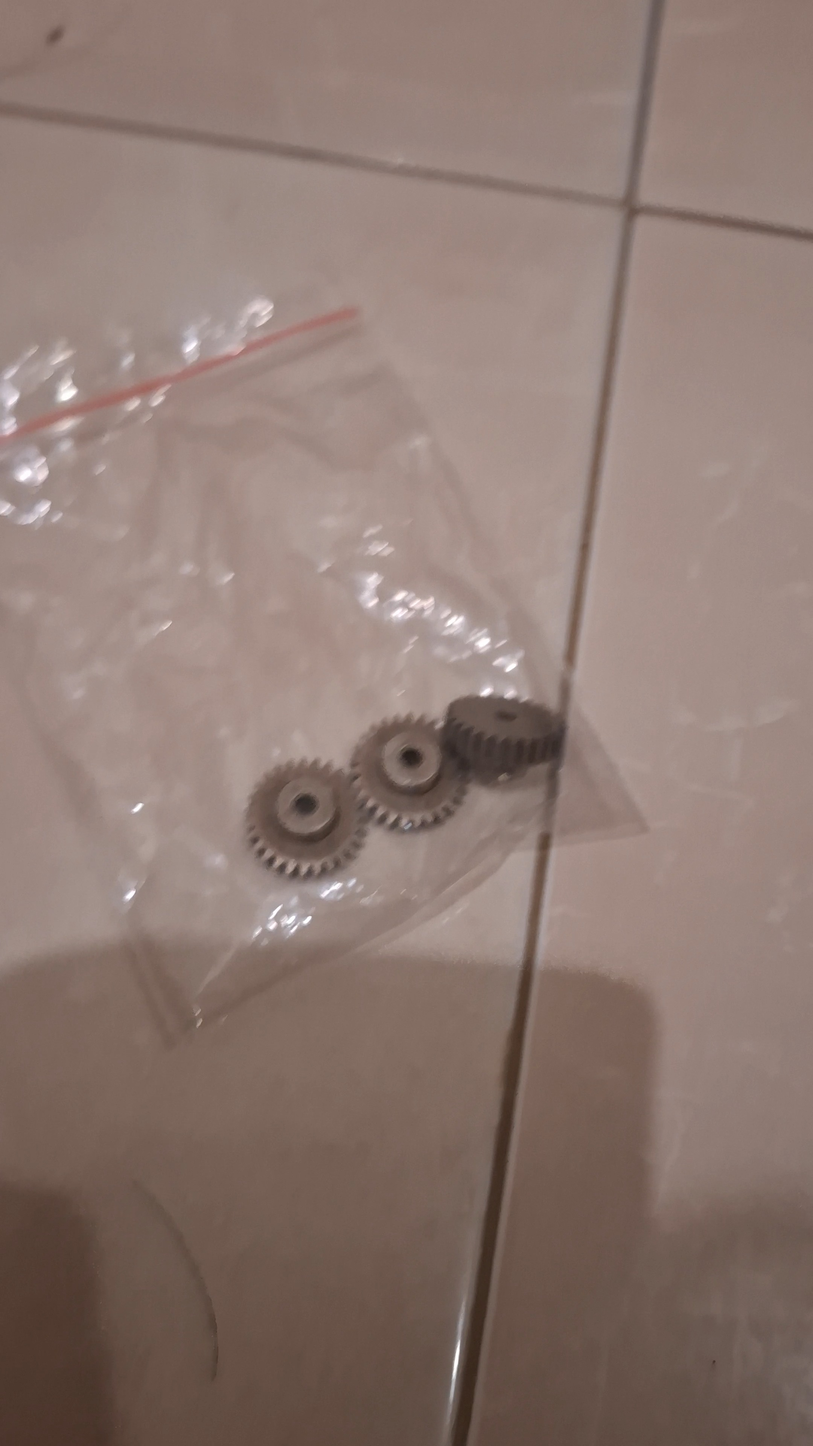spur gear: (242, 760, 368, 880), (350, 713, 469, 829), (441, 692, 565, 783)
